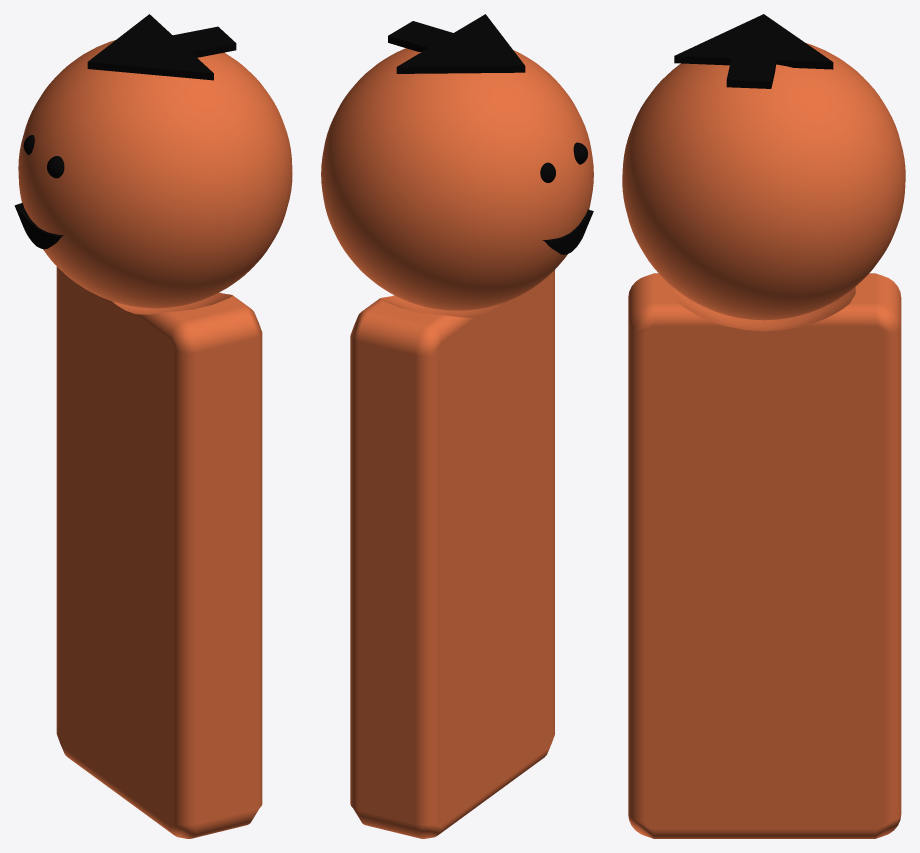
The model's file is beige_smile.obj.
The picture shows the model from 3 angles, left to right: view 1: azimuth 30°, elevation 25°; view 2: azimuth 150°, elevation 25°; view 3: azimuth 270°, elevation 25°; orthographic projection. The views are drawn at different scales.
Parts seen in each view (by area): view 1: 1_Curve.002_Curve.001, 5.002_Curve.002_Curve.003_5.002_Curve.002_Curve.002; view 2: 1_Curve.002_Curve.001, 5.002_Curve.002_Curve.003_5.002_Curve.002_Curve.002; view 3: 1_Curve.002_Curve.001, 5.002_Curve.002_Curve.003_5.002_Curve.002_Curve.002.
Part boxes in pixels (x1=…): 1_Curve.002_Curve.001: x1=18, y1=40, x2=292, y2=838; 5.002_Curve.002_Curve.003_5.002_Curve.002_Curve.002: x1=14, y1=14, x2=236, y2=249; 1_Curve.002_Curve.001: x1=321, y1=48, x2=593, y2=838; 5.002_Curve.002_Curve.003_5.002_Curve.002_Curve.002: x1=388, y1=14, x2=593, y2=254; 1_Curve.002_Curve.001: x1=622, y1=43, x2=905, y2=838; 5.002_Curve.002_Curve.003_5.002_Curve.002_Curve.002: x1=674, y1=14, x2=833, y2=88.
Size of the model in its own units: 0.1662 by 0.4993 by 0.1661.
